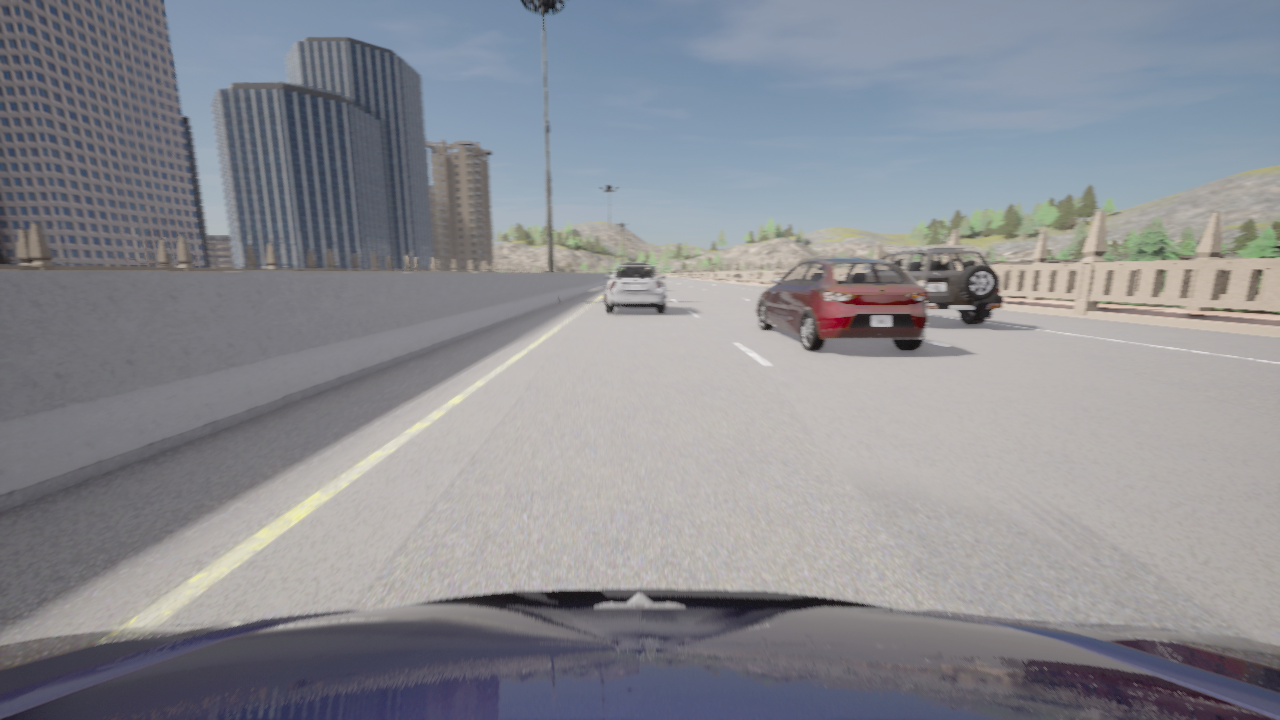cyclist: (0, 588, 1279, 719), (756, 258, 928, 351), (880, 247, 1003, 325), (604, 265, 665, 313)
